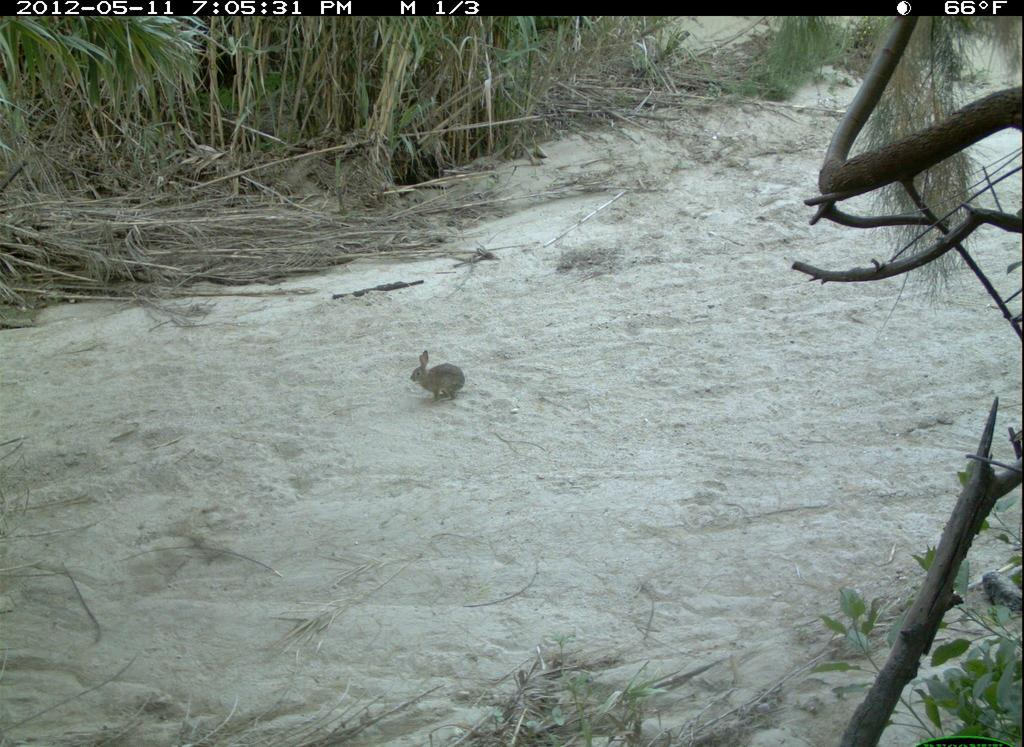rabbit: (401, 345, 478, 417)
